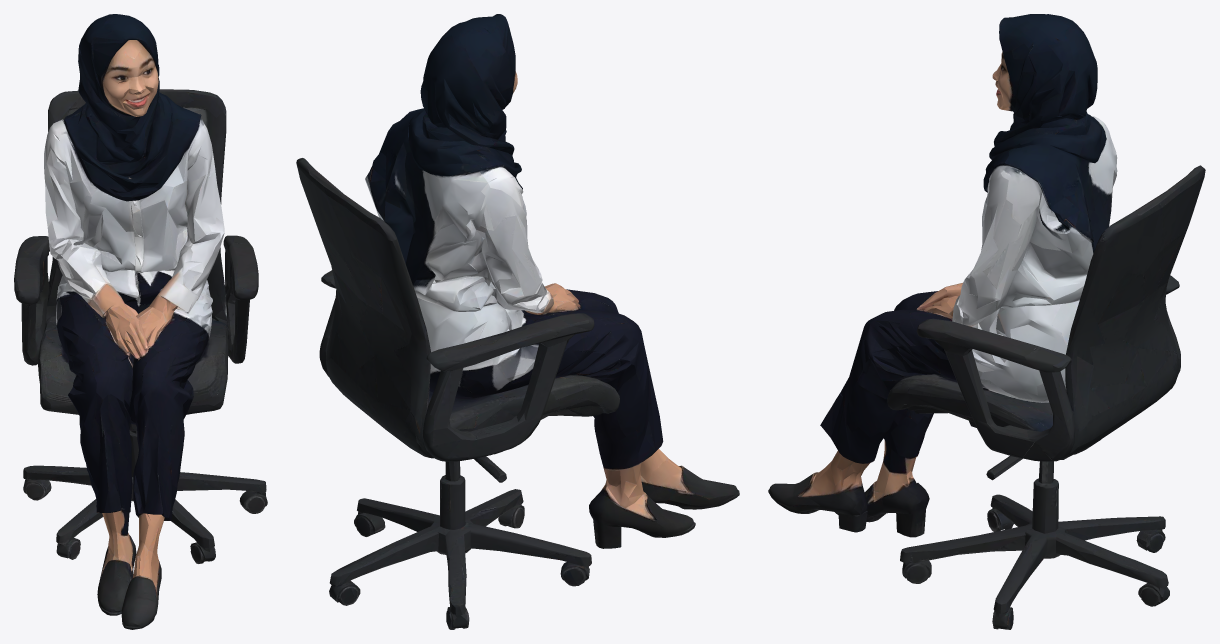
Rendered from duduk-wanita.glb.
3 renders of one model, left to right at view 1: azimuth 30°, elevation 25°; view 2: azimuth 150°, elevation 25°; view 3: azimuth 270°, elevation 25°, orthographic. The views are drawn at different scales.
Bounding box in the file's own units: 0.9841 × 1.9 × 1.37.
Materials: 1 (1 with a texture image).
